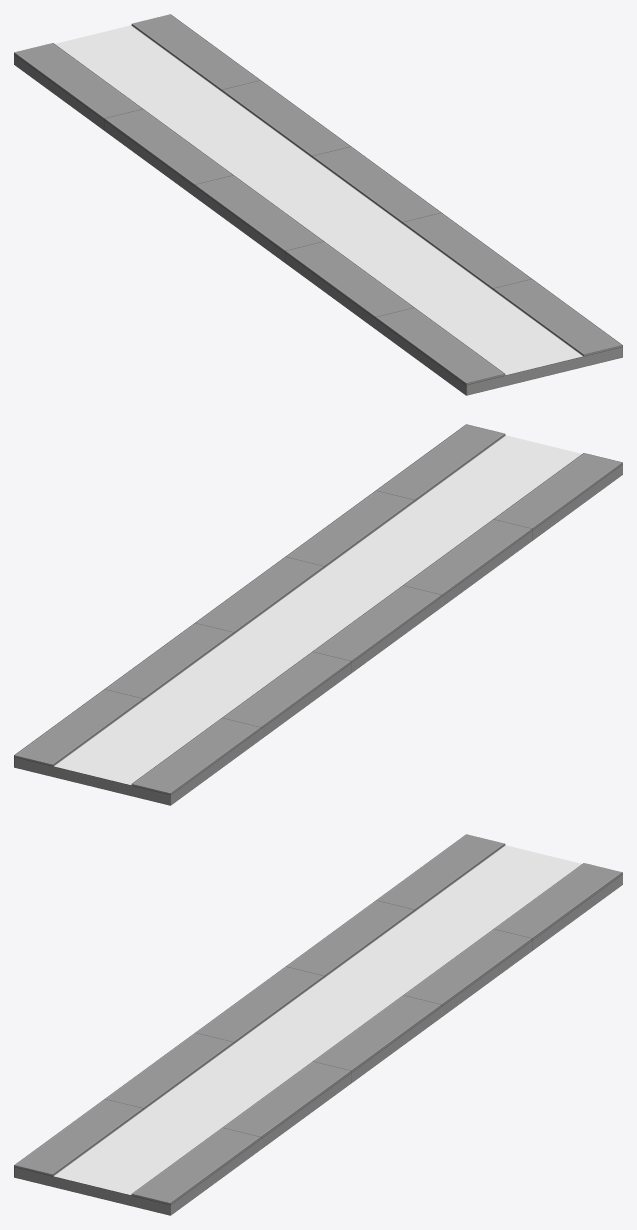
File: Road-10.fbx
3 views of the same model, one above another, from view 1: azimuth 30°, elevation 25°; view 2: azimuth 150°, elevation 25°; view 3: azimuth 330°, elevation 25° (orthographic).
Visible parts, largest first — view 1: Road_10; view 2: Road_10; view 3: Road_10.
Part boxes in pixels (x1,y1,x2,y2): Road_10: (14, 14, 622, 395); Road_10: (14, 424, 622, 805); Road_10: (14, 834, 622, 1215).
Bounding box in the file's own units: 4 × 0.3 × 20.
